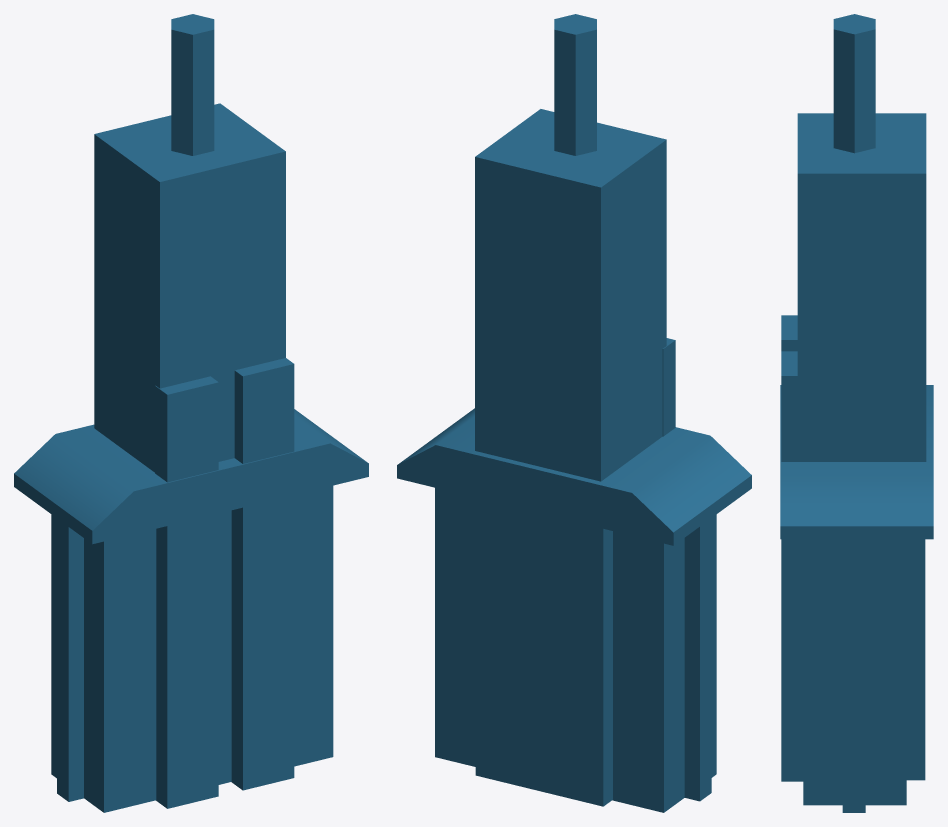
File: SM_Bld_Background_01_Collision.fbx
The picture shows the model from 3 angles, left to right: view 1: azimuth 30°, elevation 25°; view 2: azimuth 150°, elevation 25°; view 3: azimuth 270°, elevation 25°; orthographic projection. The views are drawn at different scales.
Parts seen in each view (by area): view 1: SM_Bld_Background_01_Collision; view 2: SM_Bld_Background_01_Collision; view 3: SM_Bld_Background_01_Collision.
Part boxes in pixels (x1,y1,x2,y2): SM_Bld_Background_01_Collision: (14, 14, 368, 812); SM_Bld_Background_01_Collision: (397, 14, 751, 812); SM_Bld_Background_01_Collision: (780, 14, 933, 812).
Size of the model in its own units: 2761 by 7079 by 1356.
